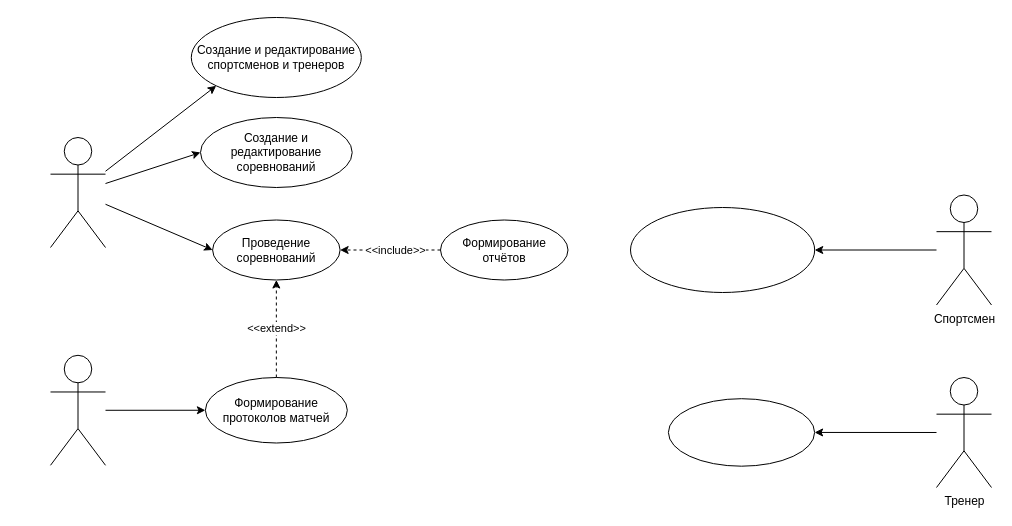
This 1012x526 diagram has some shape labels left out. The centre of each missing label's shape, as x and y in pixels:
"Просмотр информации о соревнованиях и спортсменах" goes at [722,249].
"Создание тренировок" goes at [741,432].
"Сотрудник спортивного комитета" goes at [78,192].
"Судья" goes at [78,409].
